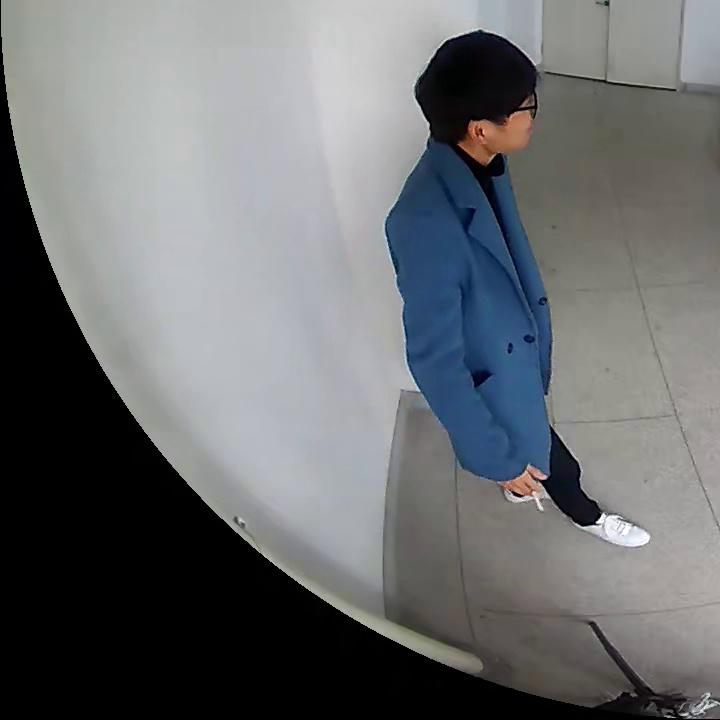handsmoke: (521, 467, 549, 516)
mouthwithoutsmoke: (416, 31, 539, 155)
